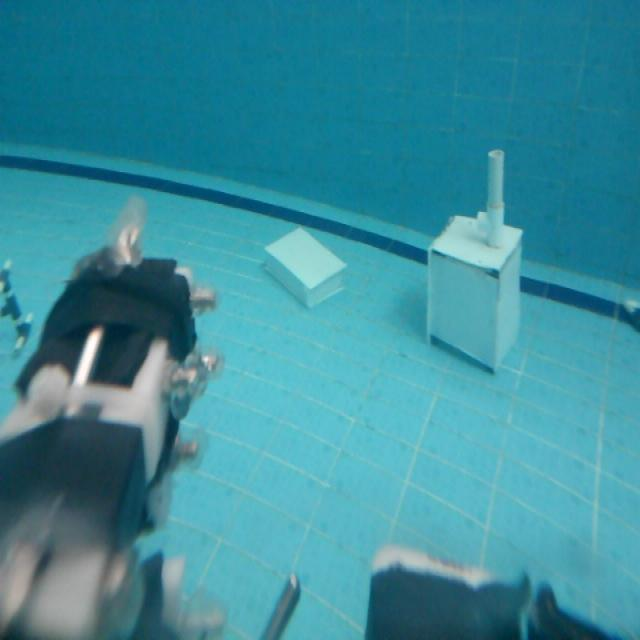Cube: (425, 211, 531, 377)
Cuboid: (261, 223, 348, 308)
